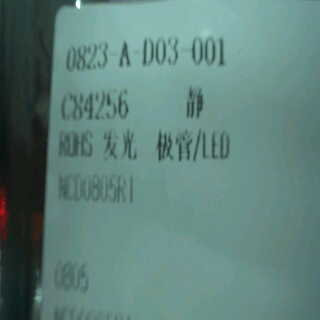LED: (99, 125, 235, 165)
